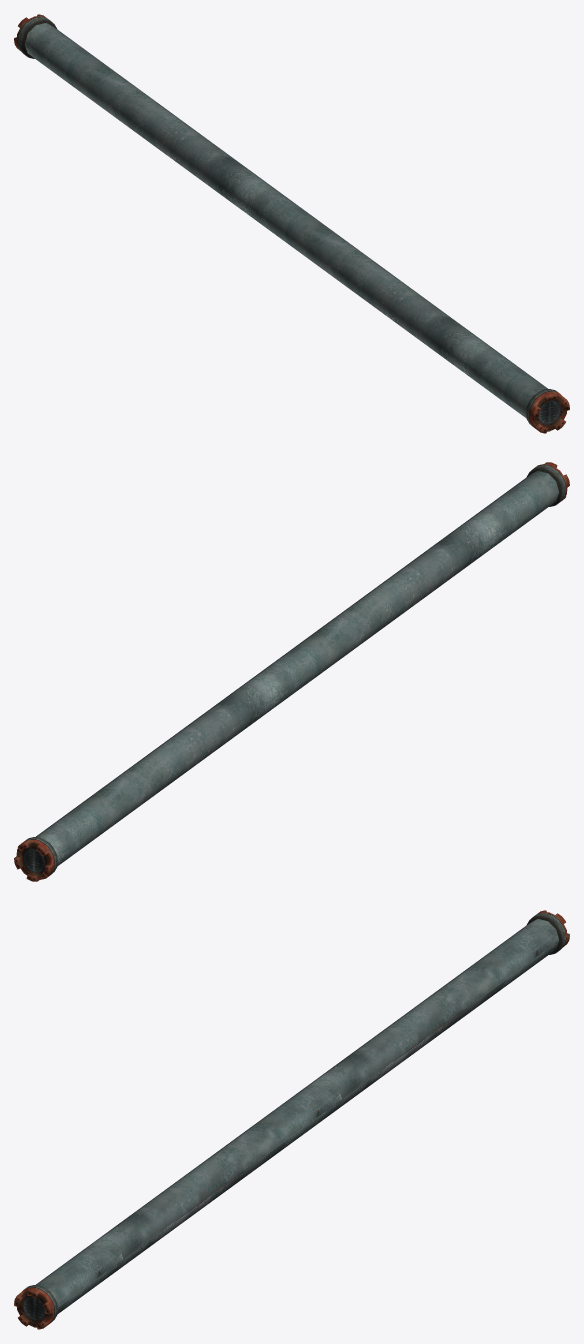
File: tau_tech_12m.DAE
3 views of the same model, one above another, from view 1: azimuth 30°, elevation 25°; view 2: azimuth 150°, elevation 25°; view 3: azimuth 330°, elevation 25° (orthographic).
Visible parts, largest first — view 1: polySurface779; view 2: polySurface779; view 3: polySurface779.
Boxes of the visible parts, left/top/right/bottom form: polySurface779: left=14, top=14, right=569, bottom=433; polySurface779: left=14, top=462, right=569, bottom=881; polySurface779: left=14, top=910, right=569, bottom=1329.
Bounding box in the file's own units: 0.4984 × 0.5035 × 12.1.
